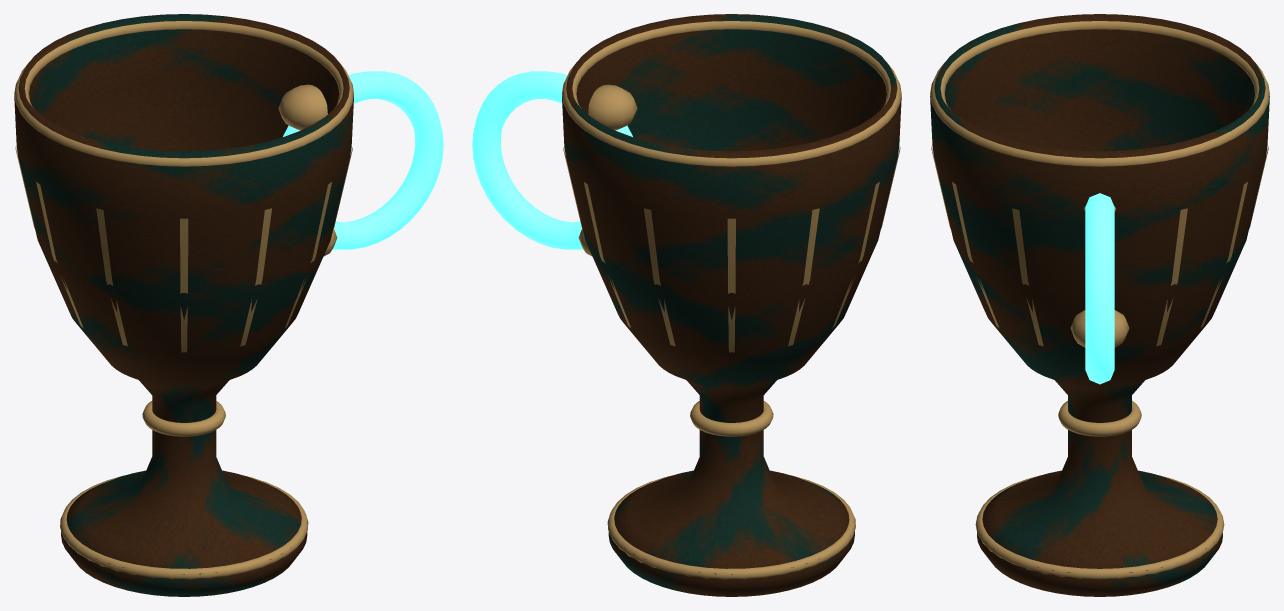
Rendered from cup.fbx.
3 renders of one model, left to right at view 1: azimuth 30°, elevation 25°; view 2: azimuth 150°, elevation 25°; view 3: azimuth 270°, elevation 25°, orthographic.
Visible parts, largest first — view 1: TH_S_Cup_HollowBody, TH_S_Cup_Handle, TH_S_Cup_Rim, TH_S_Cup_FootBand, TH_S_Cup_HandleMount.001, TH_S_Cup_StemBand, TH_S_Cup_ChasedFlute.008, TH_S_Cup_ChasedFlute.007, TH_S_Cup_ChasedFlute.009; view 2: TH_S_Cup_HollowBody, TH_S_Cup_Handle, TH_S_Cup_Rim, TH_S_Cup_FootBand, TH_S_Cup_HandleMount.001, TH_S_Cup_StemBand, TH_S_Cup_ChasedFlute.004, TH_S_Cup_ChasedFlute.003, TH_S_Cup_ChasedFlute.005; view 3: TH_S_Cup_HollowBody, TH_S_Cup_Rim, TH_S_Cup_Handle, TH_S_Cup_FootBand, TH_S_Cup_StemBand, TH_S_Cup_HandleMount, TH_S_Cup_ChasedFlute.001, TH_S_Cup_ChasedFlute.011, TH_S_Cup_ChasedFlute.002, TH_S_Cup_ChasedFlute.010.
Part boxes in pixels (left/top/right/bottom): TH_S_Cup_HollowBody: left=14, top=14, right=353, bottom=596; TH_S_Cup_Handle: left=283, top=71, right=443, bottom=249; TH_S_Cup_Rim: left=14, top=21, right=353, bottom=166; TH_S_Cup_FootBand: left=60, top=475, right=308, bottom=579; TH_S_Cup_HandleMount.001: left=278, top=84, right=327, bottom=130; TH_S_Cup_StemBand: left=142, top=401, right=225, bottom=436; TH_S_Cup_ChasedFlute.008: left=180, top=218, right=188, bottom=352; TH_S_Cup_ChasedFlute.007: left=96, top=208, right=127, bottom=346; TH_S_Cup_ChasedFlute.009: left=240, top=208, right=271, bottom=346; TH_S_Cup_HollowBody: left=562, top=14, right=901, bottom=596; TH_S_Cup_Handle: left=472, top=71, right=632, bottom=249; TH_S_Cup_Rim: left=562, top=21, right=901, bottom=166; TH_S_Cup_FootBand: left=607, top=475, right=855, bottom=579; TH_S_Cup_HandleMount.001: left=588, top=84, right=637, bottom=130; TH_S_Cup_StemBand: left=690, top=401, right=773, bottom=436; TH_S_Cup_ChasedFlute.004: left=727, top=218, right=735, bottom=352; TH_S_Cup_ChasedFlute.003: left=644, top=208, right=675, bottom=346; TH_S_Cup_ChasedFlute.005: left=788, top=208, right=819, bottom=346; TH_S_Cup_HollowBody: left=930, top=14, right=1269, bottom=596; TH_S_Cup_Rim: left=930, top=21, right=1269, bottom=166; TH_S_Cup_Handle: left=1085, top=193, right=1114, bottom=384; TH_S_Cup_FootBand: left=975, top=476, right=1224, bottom=579; TH_S_Cup_StemBand: left=1058, top=401, right=1141, bottom=436; TH_S_Cup_HandleMount: left=1070, top=310, right=1129, bottom=347; TH_S_Cup_ChasedFlute.001: left=1156, top=208, right=1187, bottom=346; TH_S_Cup_ChasedFlute.011: left=1012, top=208, right=1043, bottom=346; TH_S_Cup_ChasedFlute.002: left=1200, top=182, right=1247, bottom=328; TH_S_Cup_ChasedFlute.010: left=952, top=182, right=999, bottom=328.
Bounding box in the file's own units: 0.19 × 0.209 × 0.138.
3 materials, 1 textured.
